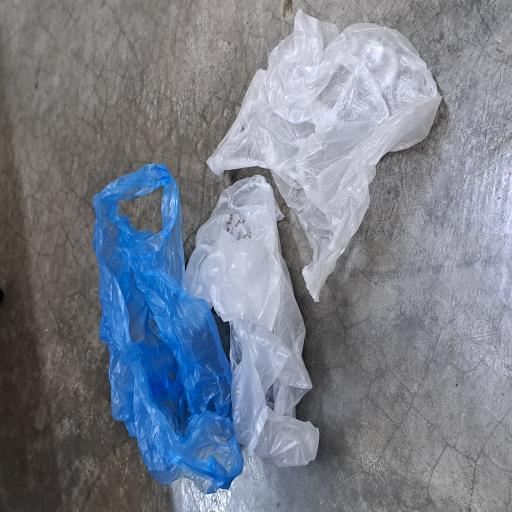plastic bag: (156, 277, 379, 512), (14, 124, 264, 320), (32, 244, 256, 430)
